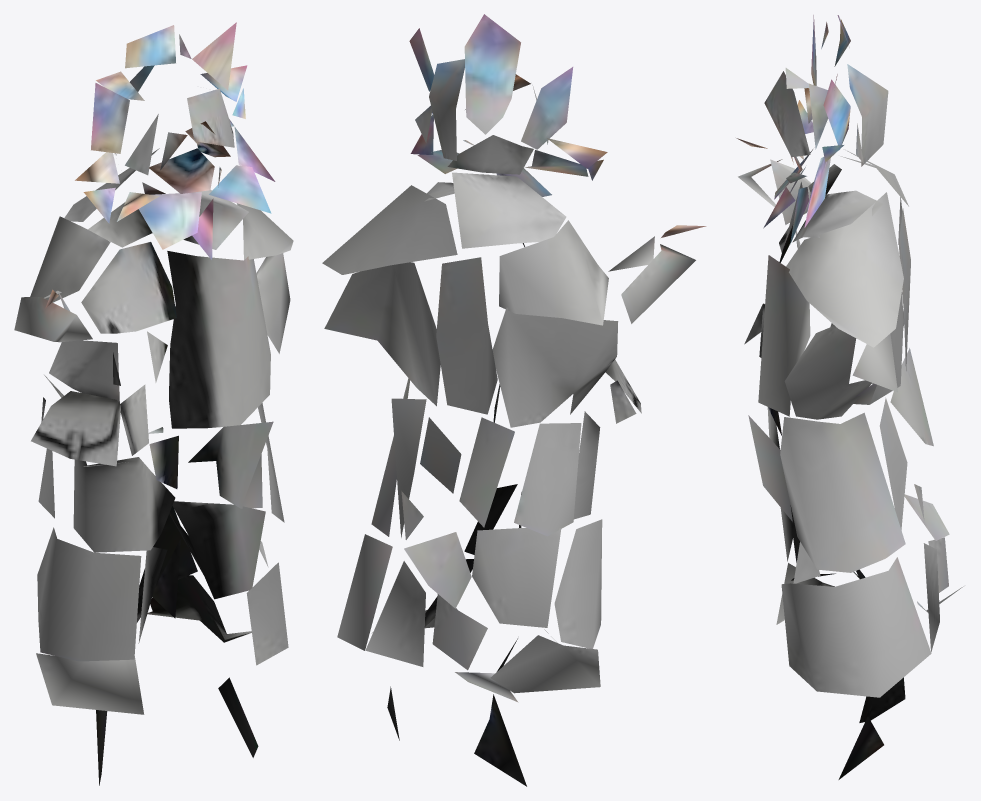
File: crowd_editor_lite.glb
3 renders of one model, left to right at view 1: azimuth 30°, elevation 25°; view 2: azimuth 150°, elevation 25°; view 3: azimuth 270°, elevation 25°, orthographic. The views are drawn at different scales.
Parts seen in each view (by area): view 1: tripo_node_bf9fb8a6-23f6-4862-ac37-375ab1056567; view 2: tripo_node_bf9fb8a6-23f6-4862-ac37-375ab1056567; view 3: tripo_node_bf9fb8a6-23f6-4862-ac37-375ab1056567.
Part boxes in pixels (box(x1,y1,x2,y2)): tripo_node_bf9fb8a6-23f6-4862-ac37-375ab1056567: box(14, 22, 293, 785); tripo_node_bf9fb8a6-23f6-4862-ac37-375ab1056567: box(322, 14, 706, 786); tripo_node_bf9fb8a6-23f6-4862-ac37-375ab1056567: box(736, 15, 963, 779).
Bounding box in the file's own units: 0.8111 × 1.85 × 0.5296.
1 material, 1 textured.
